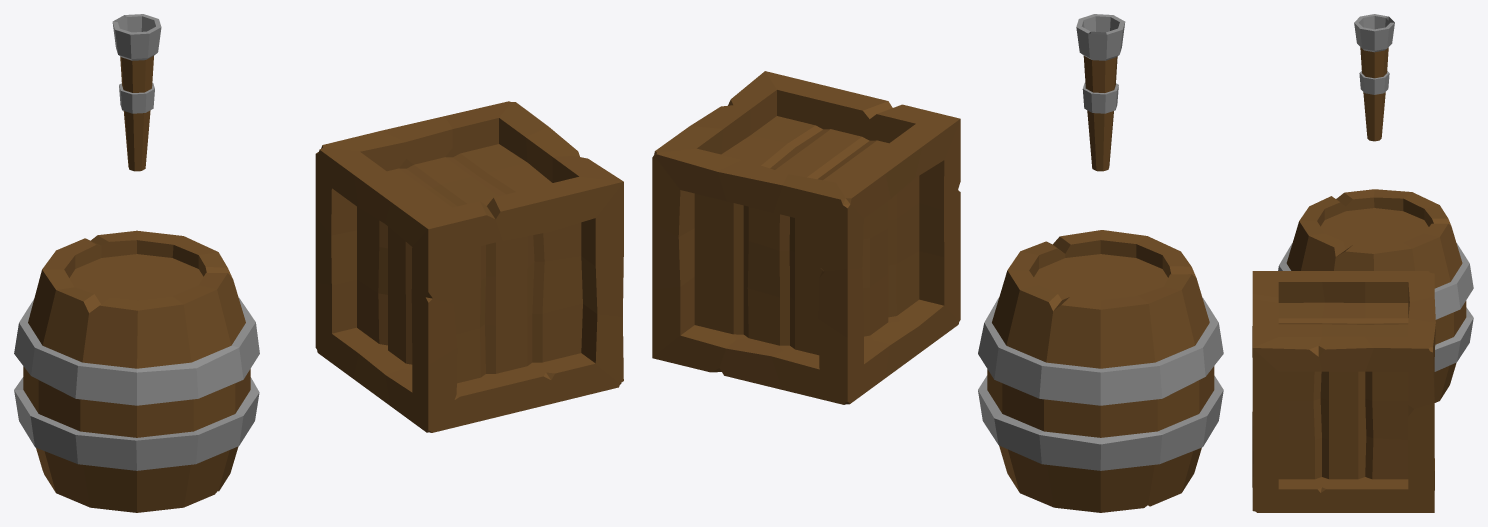
Rendered from dungeon_props.fbx.
The picture shows the model from 3 angles, left to right: view 1: azimuth 30°, elevation 25°; view 2: azimuth 150°, elevation 25°; view 3: azimuth 270°, elevation 25°; orthographic projection. The views are drawn at different scales.
Parts seen in each view (by area): view 1: Caja.008, Barril.011, Torch2; view 2: Caja.008, Barril.011, Torch2; view 3: Caja.008, Barril.011, Torch2.
Part boxes in pixels (<box>): Caja.008: <box>315,101,623,432</box>; Barril.011: <box>14,230,259,512</box>; Torch2: <box>112,14,161,171</box>; Caja.008: <box>652,71,960,404</box>; Barril.011: <box>978,230,1223,512</box>; Torch2: <box>1076,14,1125,171</box>; Caja.008: <box>1252,271,1435,512</box>; Barril.011: <box>1278,189,1473,402</box>; Torch2: <box>1354,14,1394,141</box>.
Bounding box in the file's own units: 266 × 220 × 122.
